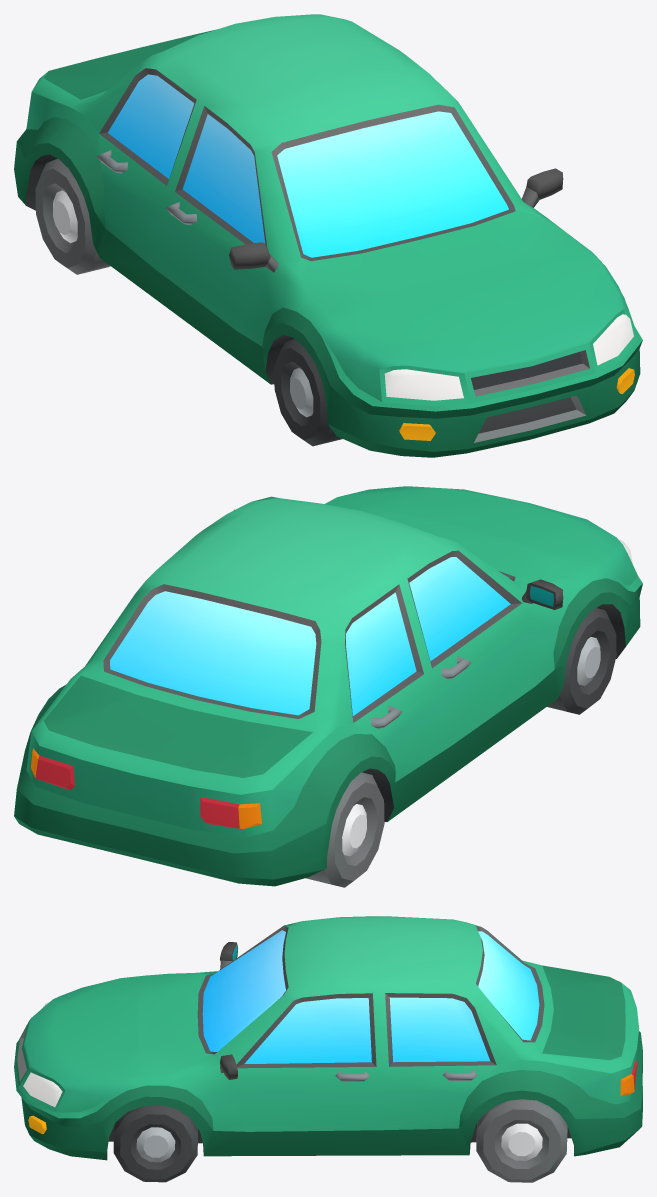
The model's file is city2-car-28.glb.
The picture shows the model from 3 angles, top to bottom: view 1: azimuth 30°, elevation 25°; view 2: azimuth 150°, elevation 25°; view 3: azimuth 270°, elevation 25°; orthographic projection. The views are drawn at different scales.
Visible parts, largest first — view 1: Car_1.019, Wheel_106, Wheel_105; view 2: Car_1.019, Wheel_106, Wheel_105; view 3: Car_1.019, Wheel_108, Wheel_107.
Part boxes in pixels (box(x1,y1,x2,y2)): Car_1.019: box(14, 14, 642, 457); Wheel_106: box(35, 158, 110, 274); Wheel_105: box(274, 339, 342, 446); Car_1.019: box(14, 486, 642, 886); Wheel_106: box(305, 772, 384, 887); Wheel_105: box(547, 608, 616, 714); Car_1.019: box(14, 916, 642, 1160); Wheel_108: box(476, 1099, 567, 1182); Wheel_107: box(113, 1105, 197, 1182).
Size of the model in its own units: 2.44 by 1.7 by 5.17.
2 materials, 2 textured.
